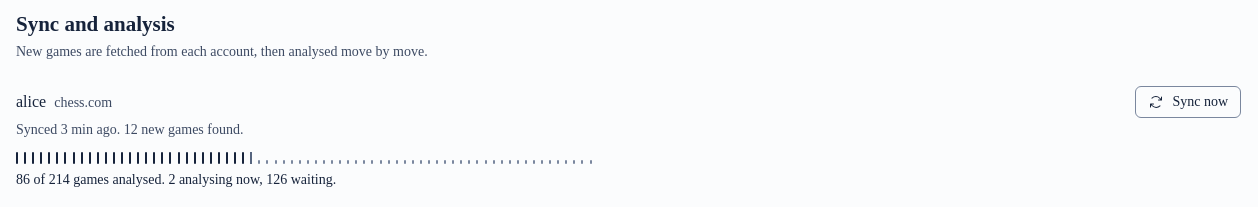
SyncPanel › Sync now posts the account and shows the check
This screenshot has width=1258, height=207.
Step 1. Click the button with aria-label "Sync now chess.com alice" → [1188, 102], box left=1135, top=86, right=1241, bottom=118
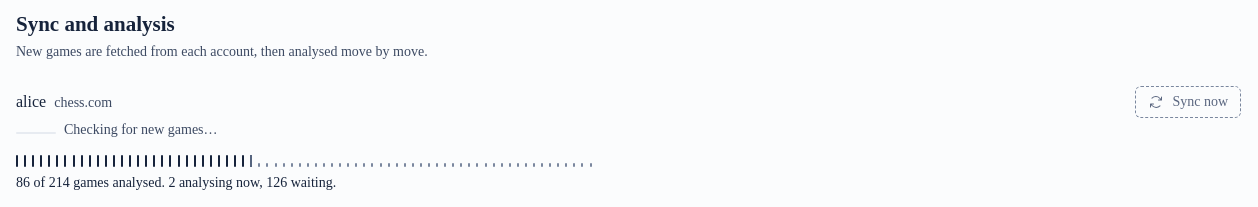
Check: the text "Checking for new games…" is shown, box left=64, top=120, right=218, bottom=140
